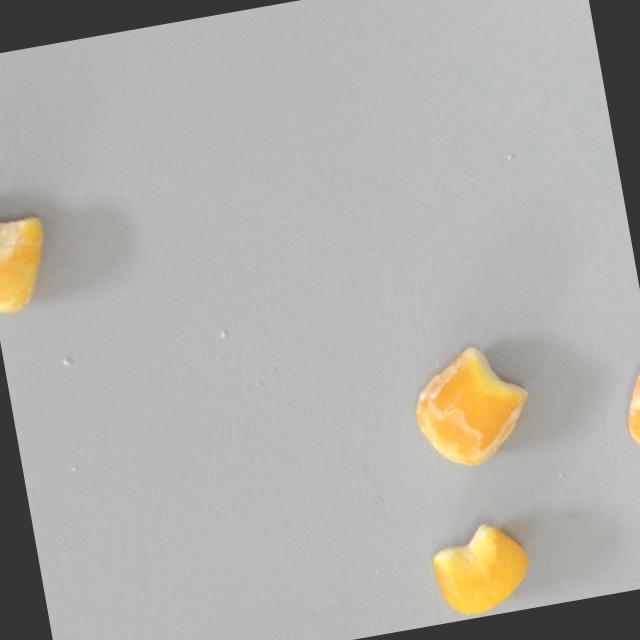no_canjicado: (426, 516, 535, 619)
pelicula: (406, 339, 540, 474), (0, 188, 56, 315), (615, 363, 640, 465)
